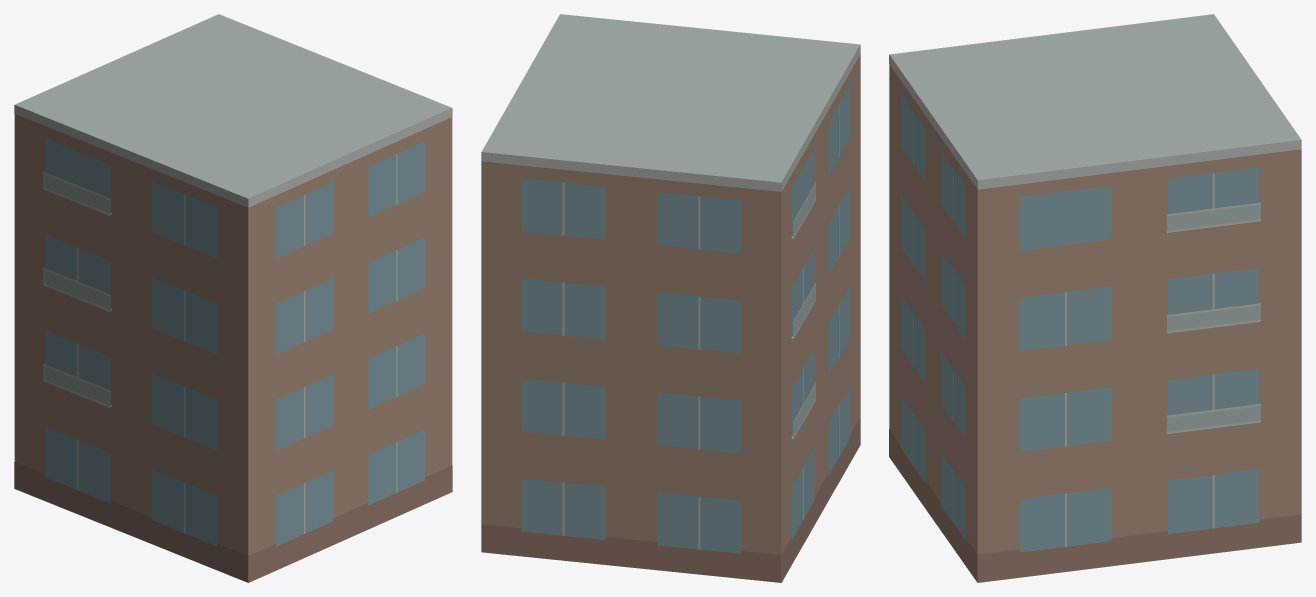
File: survey-upis-32722299.glb
3 renders of one model, left to right at view 1: azimuth 30°, elevation 25°; view 2: azimuth 150°, elevation 25°; view 3: azimuth 270°, elevation 25°, orthographic. The views are drawn at different scales.
Visible parts, largest first — view 1: survey-upis-32722299.tmp; view 2: survey-upis-32722299.tmp; view 3: survey-upis-32722299.tmp.
Part boxes in pixels (x1,y1,x2,y2): survey-upis-32722299.tmp: (14,14,452,582); survey-upis-32722299.tmp: (481,14,860,582); survey-upis-32722299.tmp: (889,14,1301,582).
Bounding box in the file's own units: 9.31 × 10.5 × 9.76.
